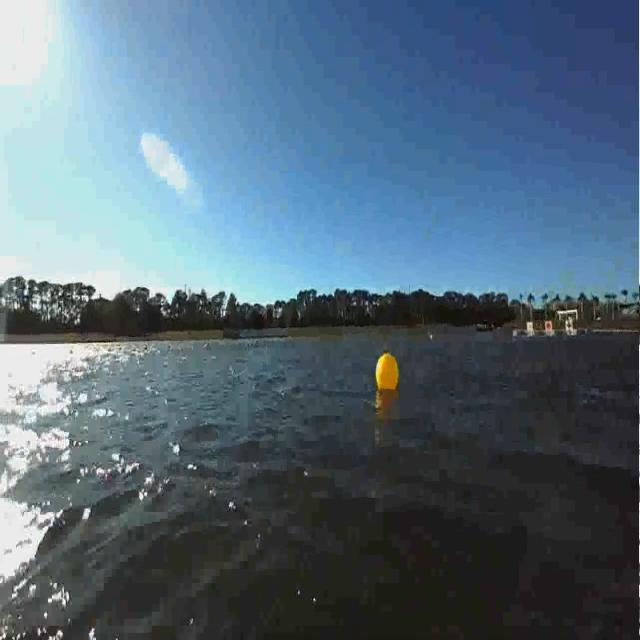yellow-buoy: (376, 352, 399, 394)
